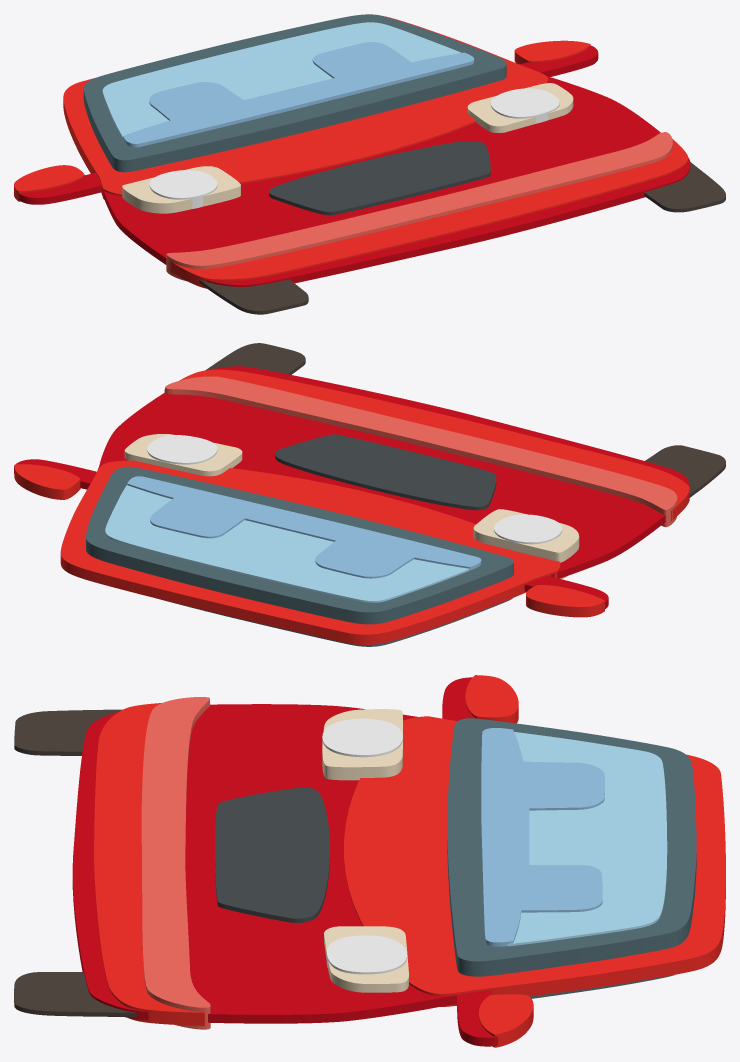
Rendered from emoji_u1f698.glb.
3 views of the same model, one above another, from view 1: azimuth 30°, elevation 25°; view 2: azimuth 150°, elevation 25°; view 3: azimuth 270°, elevation 25° (orthographic). The views are drawn at different scales.
Visible parts, largest first — view 1: emoji_u1f698; view 2: emoji_u1f698; view 3: emoji_u1f698.
Part boxes in pixels (x1=…): emoji_u1f698: x1=14, y1=14, x2=725, y2=314; emoji_u1f698: x1=14, y1=343, x2=725, y2=646; emoji_u1f698: x1=14, y1=675, x2=725, y2=1047.
Size of the model in its own units: 0.0354 by 0.0024 by 0.0296.
